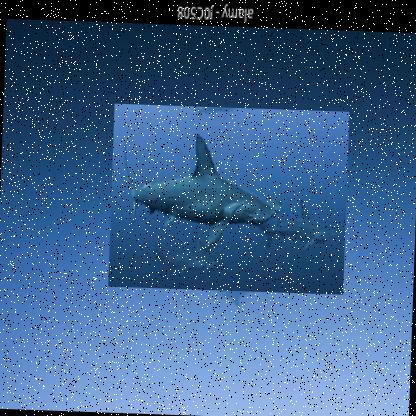hammerhead_Shark: (107, 102, 350, 294)
